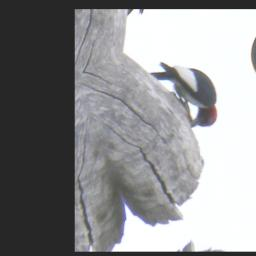Woodpecker: (145, 39, 230, 146)
